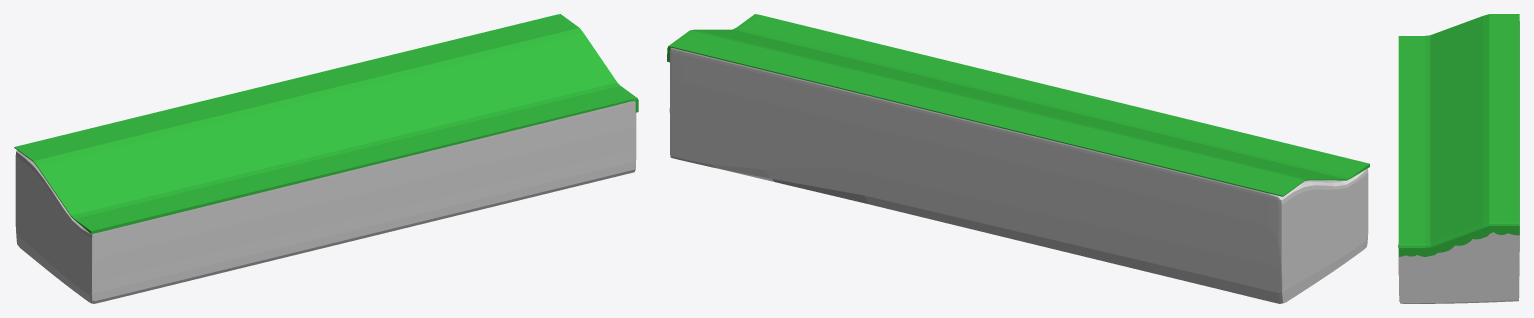
The model's file is Tile_Cuesta_Derecha.fbx.
3 renders of one model, left to right at view 1: azimuth 30°, elevation 25°; view 2: azimuth 150°, elevation 25°; view 3: azimuth 270°, elevation 25°, orthographic. The views are drawn at different scales.
Parts seen in each view (by area): view 1: Cube.009; view 2: Cube.009; view 3: Cube.009.
Boxes of the visible parts, x1,y1,x2,y2 form: Cube.009: (14, 14, 638, 303); Cube.009: (667, 14, 1369, 303); Cube.009: (1398, 14, 1519, 303).
Size of the model in its own units: 4098 by 738 by 1005.
